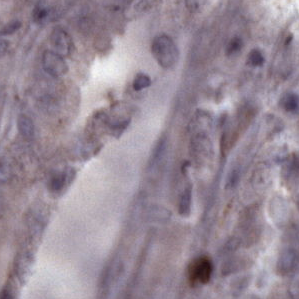Lymphocyte: (186, 254, 214, 287)
